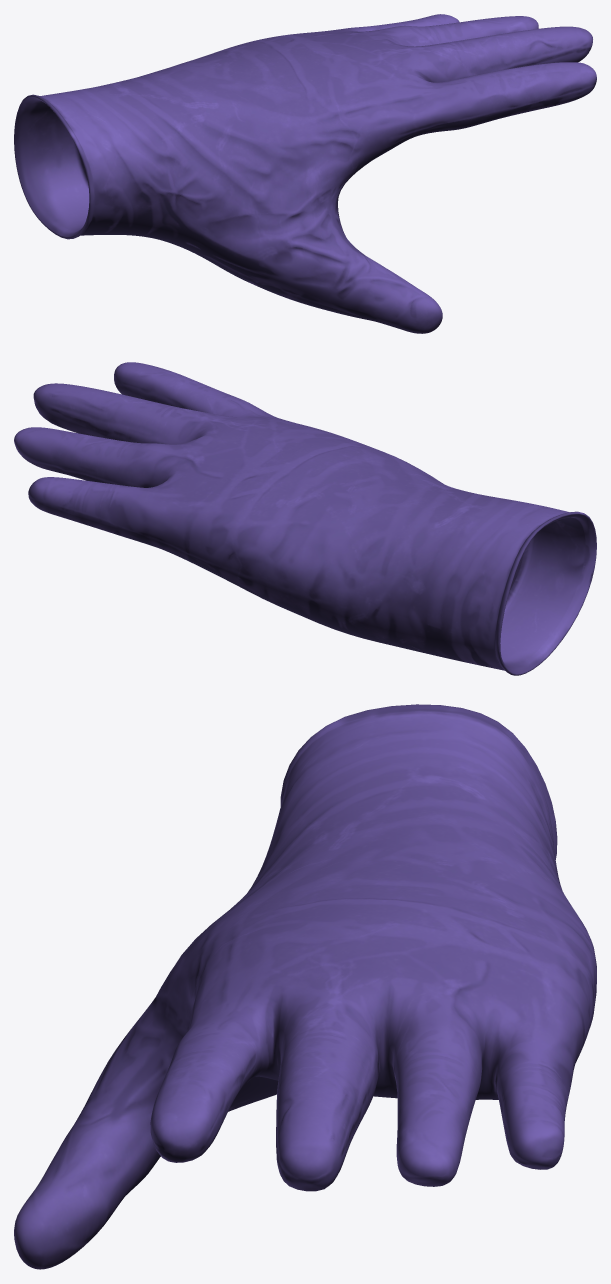
The model's file is gloved_hand_SX.obj.
3 renders of one model, top to bottom at view 1: azimuth 30°, elevation 25°; view 2: azimuth 150°, elevation 25°; view 3: azimuth 270°, elevation 25°, orthographic. The views are drawn at different scales.
Visible parts, largest first — view 1: defaultMaterial; view 2: defaultMaterial; view 3: defaultMaterial.
Boxes of the visible parts, x1=… form: defaultMaterial: x1=14, y1=14, x2=596, y2=333; defaultMaterial: x1=14, y1=362, x2=596, y2=675; defaultMaterial: x1=14, y1=704, x2=596, y2=1269.
Bounding box in the file's own units: 0.2857 × 0.1115 × 0.1688.
